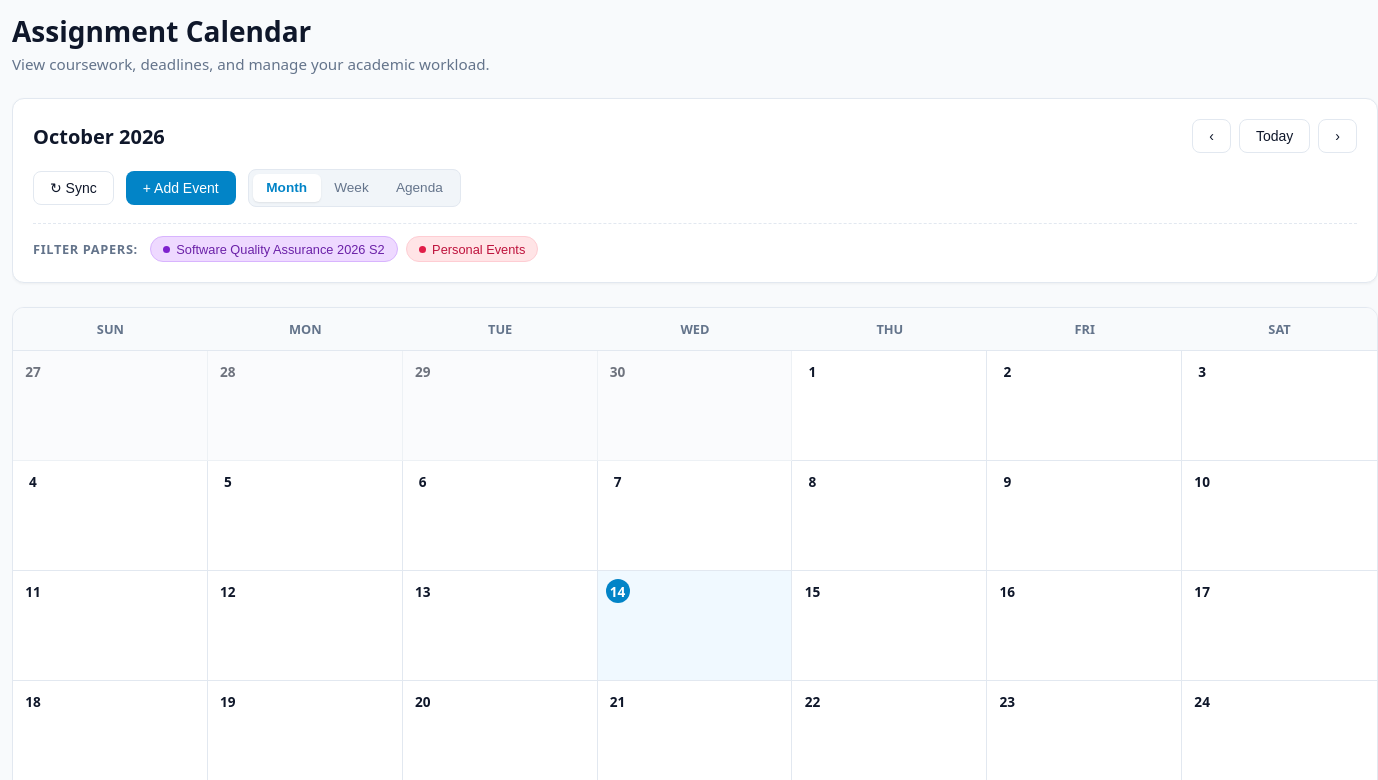
it: Calendar sync - keeping data current (FR-11) › TC-40: shows one entry when an event exists both in the local cache and in Canvas
Click the button "Agenda". click: (419, 188)
box: x1=382 y1=174 x2=456 y2=202
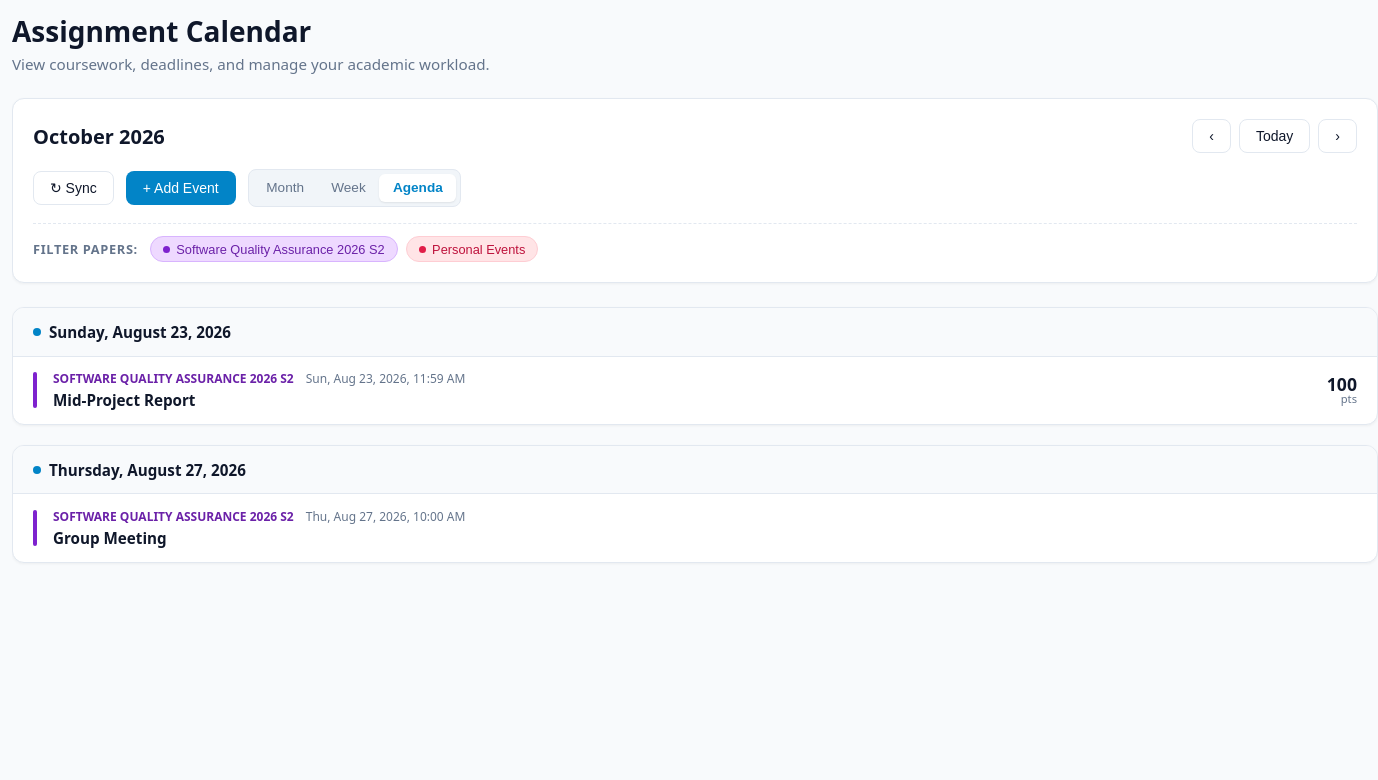
Expected: the number of headings "Group Meeting" is 1, x1=53 y1=528 x2=167 y2=548
